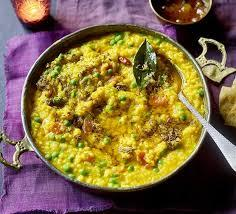Dhal Curry: (27, 42, 204, 192)
